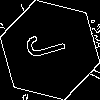J: (25, 25, 75, 62)
